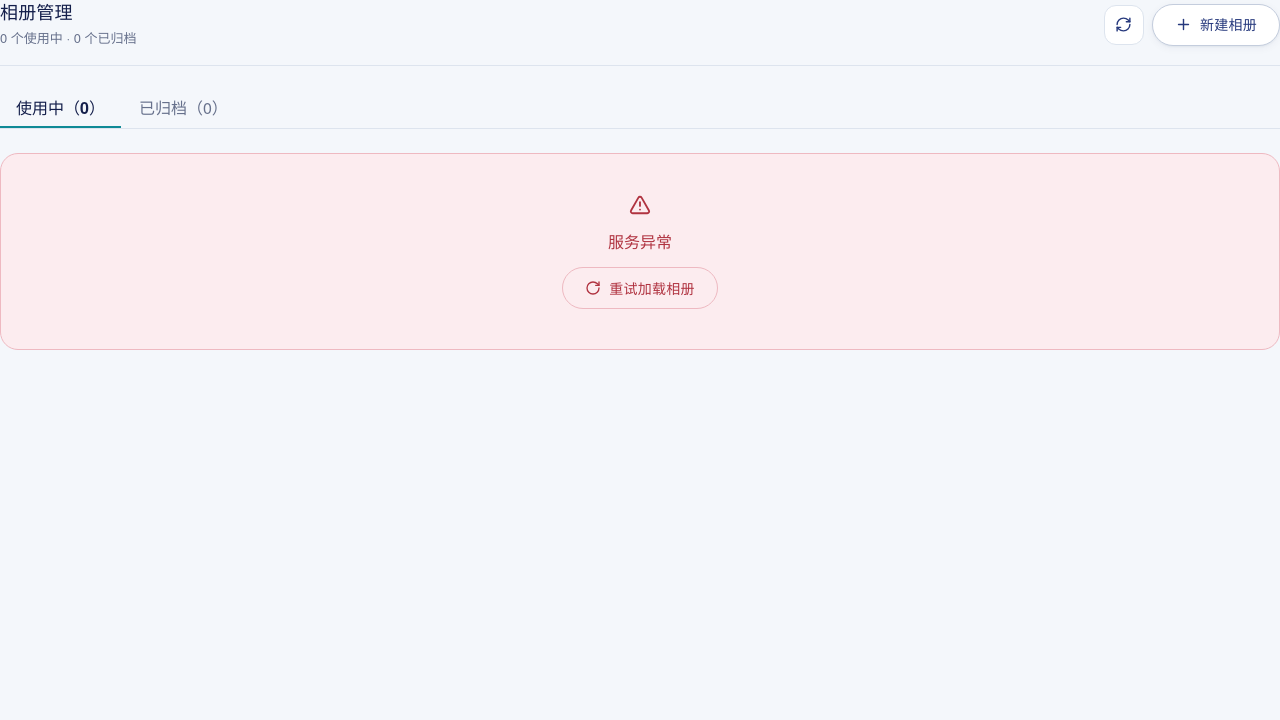
Test case: AdminAlbums › retries the album list after a load error
The image size is (1280, 720).
Click the button "重试加载相册".
click(640, 288)  # box top-left (562, 267), bottom-right (718, 309)
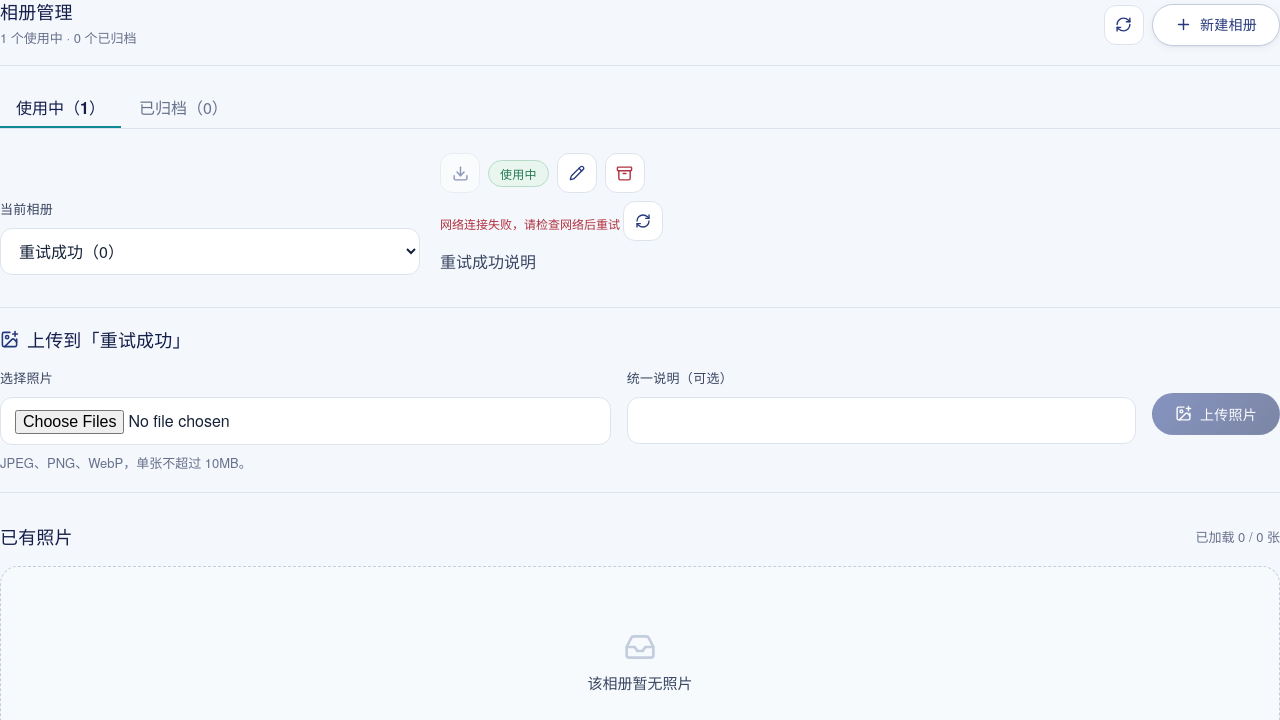
Now the text "重试成功" is shown, box top-left (440, 250), bottom-right (536, 273)
